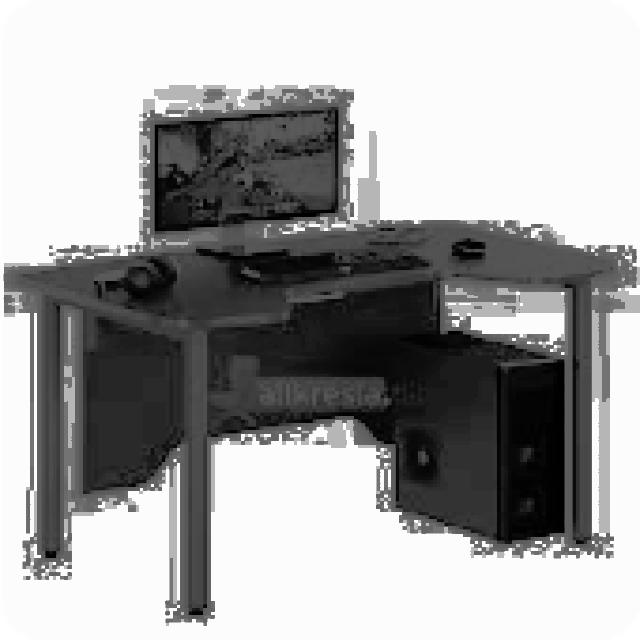table: (11, 221, 618, 615)
